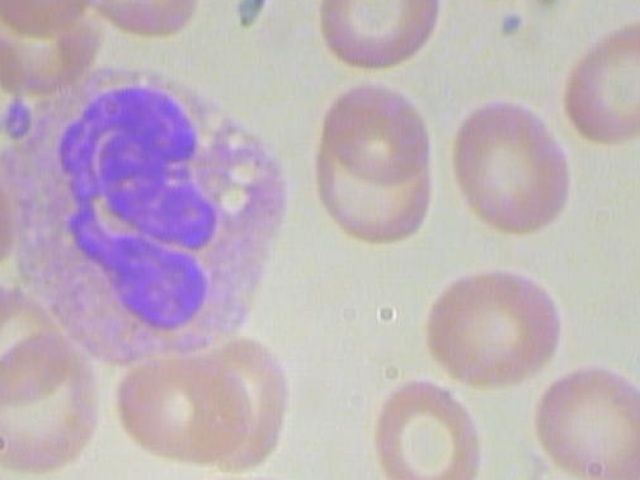RBC: (411, 248, 569, 392), (445, 89, 576, 237), (110, 345, 265, 466), (359, 370, 496, 480), (0, 336, 102, 480), (197, 333, 294, 479), (523, 361, 640, 480), (320, 72, 437, 181), (555, 12, 640, 154), (313, 0, 444, 86), (77, 0, 206, 44), (0, 0, 105, 42), (0, 8, 23, 160), (0, 148, 26, 271), (440, 0, 561, 3)
WBC: (0, 65, 305, 380)
